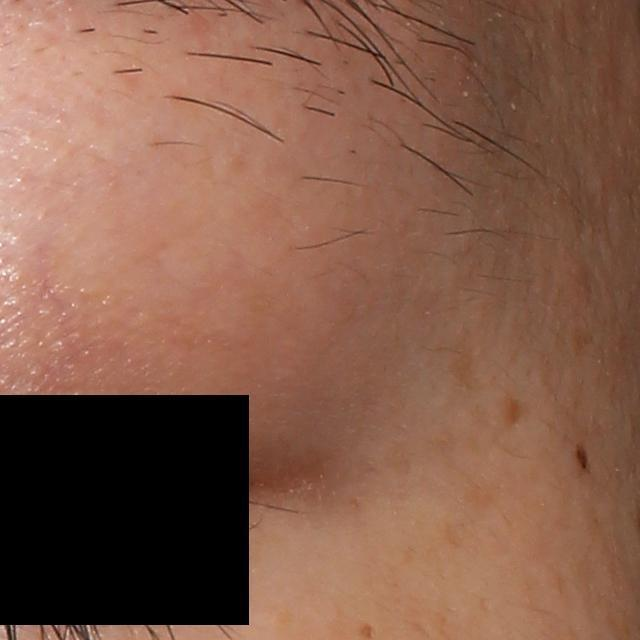melasma: (502, 396, 529, 430)
nevus: (573, 446, 589, 469)
